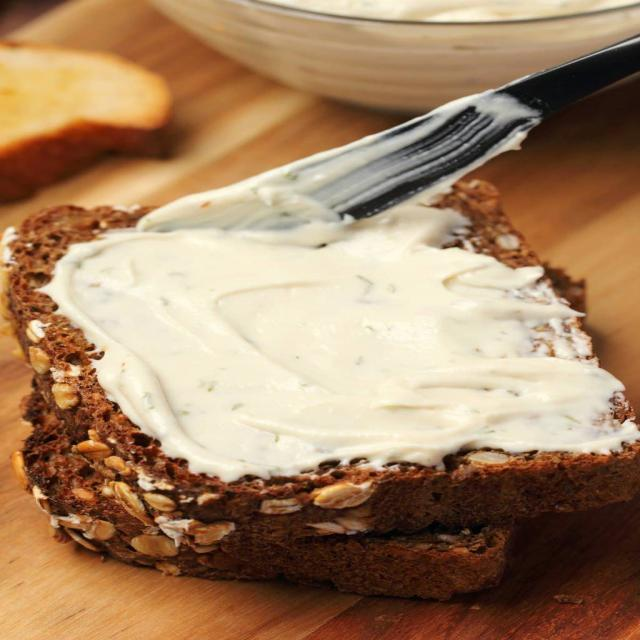Spread: (58, 217, 610, 464)
